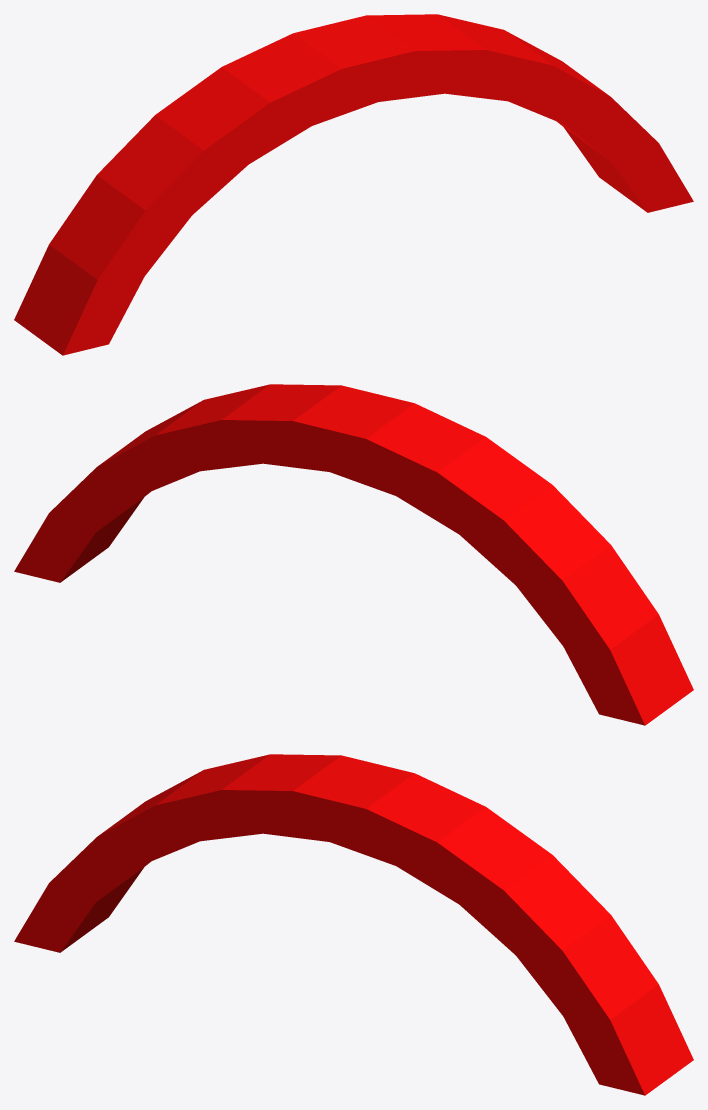
The model's file is ctb_handle.obj.
3 views of the same model, one above another, from view 1: azimuth 30°, elevation 25°; view 2: azimuth 150°, elevation 25°; view 3: azimuth 330°, elevation 25° (orthographic).
Size of the model in its own units: 5.61 by 1.86 by 0.75.
